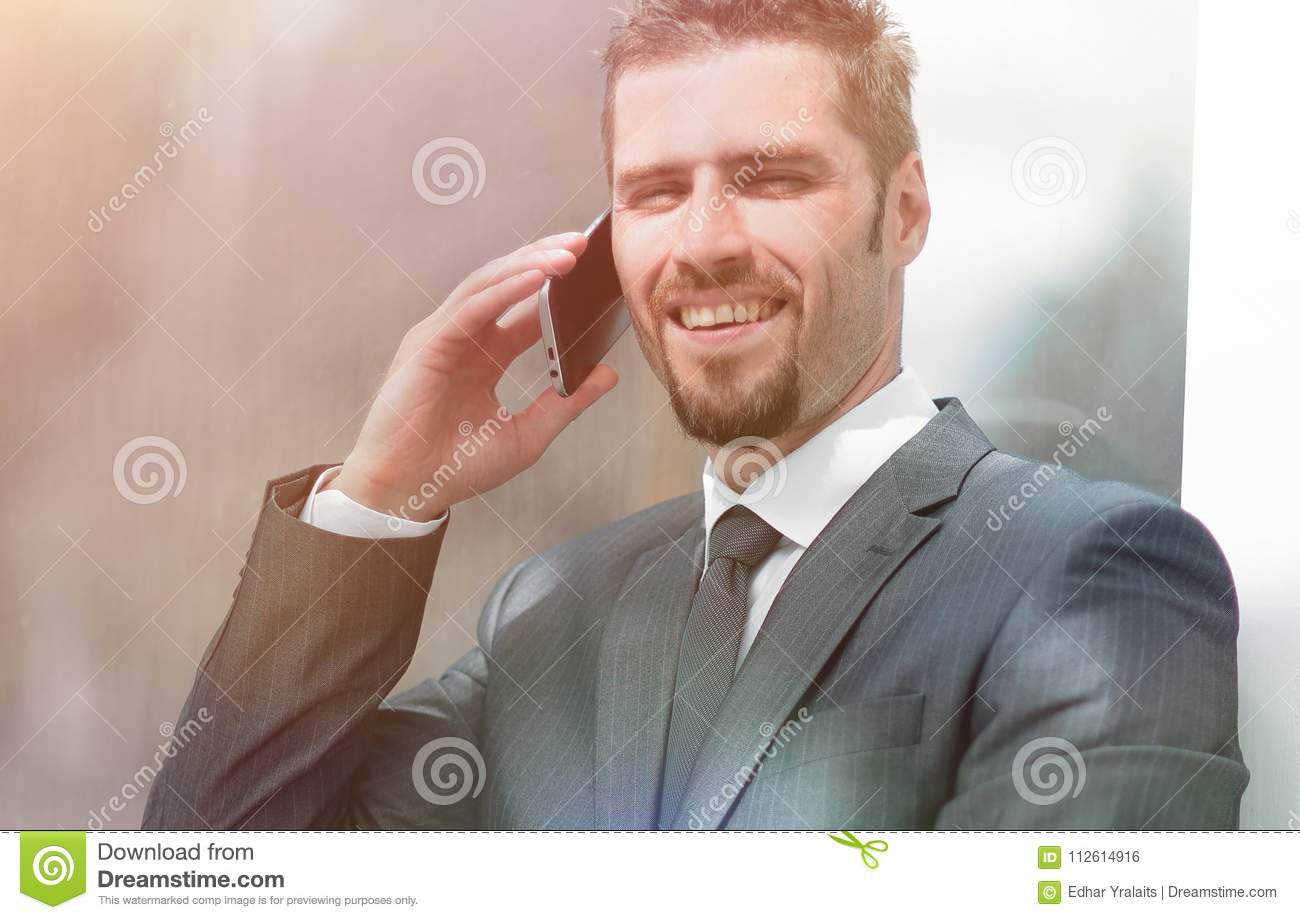phone: (534, 205, 626, 410)
talk: (355, 130, 848, 515)
